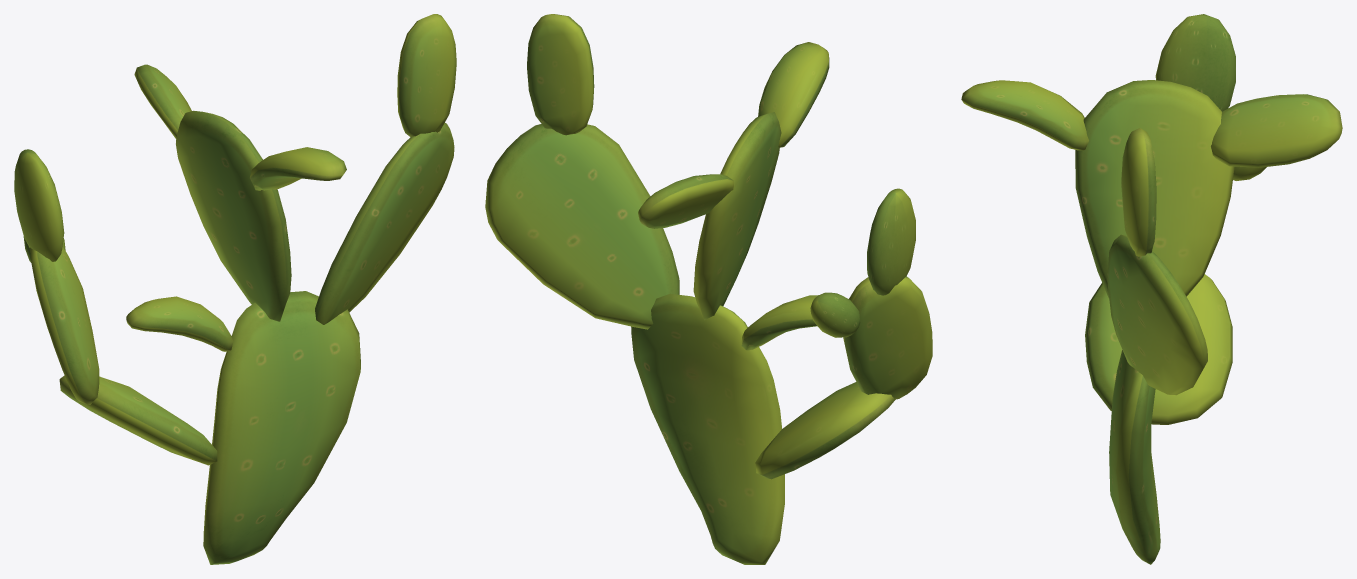
The model's file is bcactus2.fbx.
3 renders of one model, left to right at view 1: azimuth 30°, elevation 25°; view 2: azimuth 150°, elevation 25°; view 3: azimuth 270°, elevation 25°, orthographic. The views are drawn at different scales.
Visible parts, largest first — view 1: cactus2_low002; view 2: cactus2_low002; view 3: cactus2_low002.
Boxes of the visible parts, <box> form: cactus2_low002: <box>14,14,456,564</box>; cactus2_low002: <box>485,14,932,564</box>; cactus2_low002: <box>961,14,1342,564</box>.
Bounding box in the file's own units: 587 × 437 × 662.
